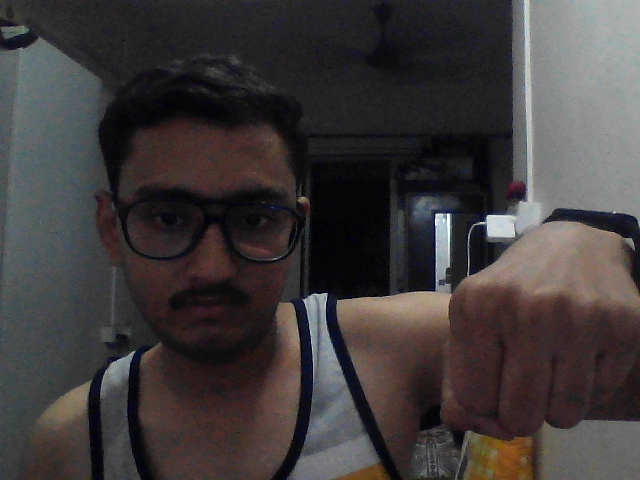Yes: (414, 171, 640, 470)
